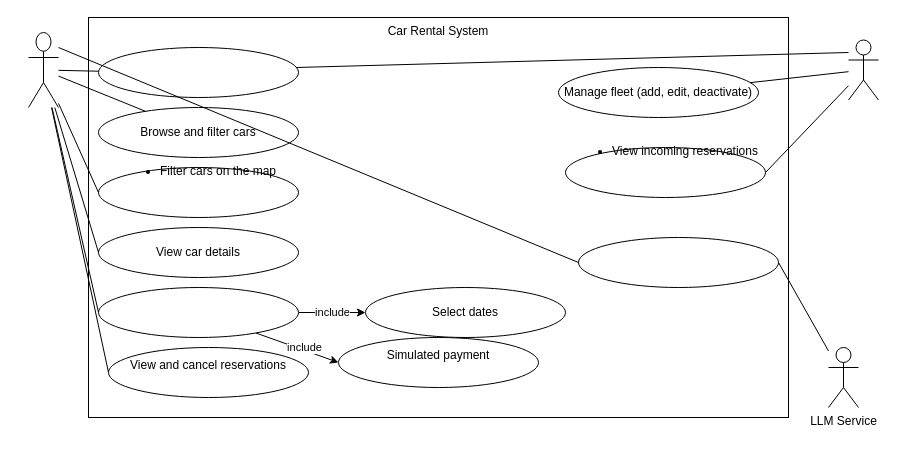
Some shapes in this 906 by 461 pixel diagram are drawn without their labels. The shapes that lost their labels are listed below. From the top down, each one's box as (x1, y1, x2, y2) in pixels, then its label:
(28, 32, 58, 108): Customer
(98, 46, 298, 98): Register and log in
(848, 39, 878, 100): Company
(578, 236, 778, 288): Get a smart recommendation
(98, 286, 298, 338): Rent a car
